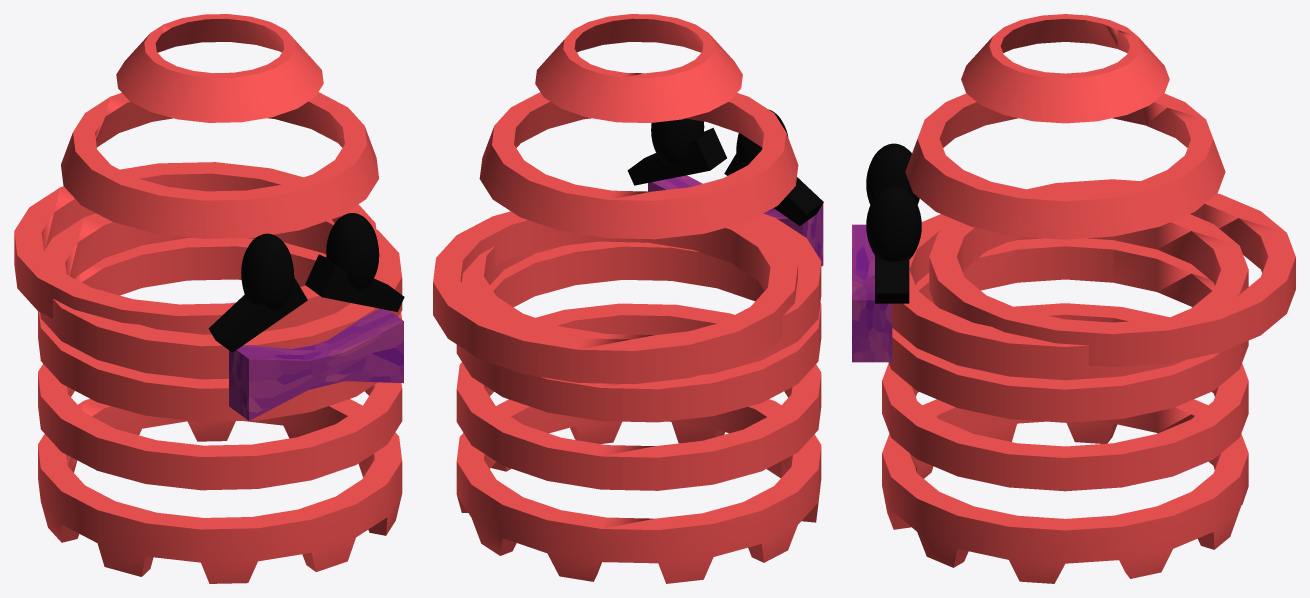
Rendered from Animated_spookje_End3.fbx.
3 views of the same model, side by side, from view 1: azimuth 30°, elevation 25°; view 2: azimuth 150°, elevation 25°; view 3: azimuth 270°, elevation 25° (orthographic).
Parts seen in each view (by area): view 1: pCylinder12, pCylinder12.001, pCylinder12.006, pCylinder12.002, pCylinder12.003, pCylinder12.004, pCylinder12.005, pCylinder12.007; view 2: pCylinder12.001, pCylinder12.004, pCylinder12, pCylinder12.003, pCylinder12.002, pCylinder12.005, pCylinder12.006, pCylinder12.007; view 3: pCylinder12.001, pCylinder12, pCylinder12.003, pCylinder12.004, pCylinder12.002, pCylinder12.006, pCylinder12.005, pCylinder12.007.
Boxes of the visible parts, box(x1,y1,x2,y2) form: pCylinder12: box(61, 92, 379, 309); pCylinder12.001: box(38, 399, 402, 583); pCylinder12.006: box(40, 213, 404, 379); pCylinder12.002: box(38, 303, 402, 490); pCylinder12.003: box(38, 238, 401, 421); pCylinder12.004: box(14, 162, 377, 334); pCylinder12.005: box(116, 14, 323, 122); pCylinder12.007: box(229, 308, 403, 420); pCylinder12.001: box(456, 399, 821, 583); pCylinder12.004: box(433, 211, 797, 384); pCylinder12: box(479, 92, 798, 239); pCylinder12.003: box(456, 241, 821, 422); pCylinder12.002: box(456, 303, 821, 490); pCylinder12.005: box(535, 14, 742, 122); pCylinder12.006: box(461, 127, 823, 374); pCylinder12.007: box(648, 175, 823, 266); pCylinder12.001: box(882, 399, 1248, 583); pCylinder12: box(866, 93, 1225, 261); pCylinder12.003: box(888, 238, 1248, 422); pCylinder12.004: box(929, 179, 1295, 367); pCylinder12.002: box(882, 303, 1248, 491); pCylinder12.006: box(875, 192, 1248, 380); pCylinder12.005: box(961, 14, 1169, 123); pCylinder12.007: box(852, 224, 892, 362).
Bounding box in the file's own units: 466 × 649 × 564.
